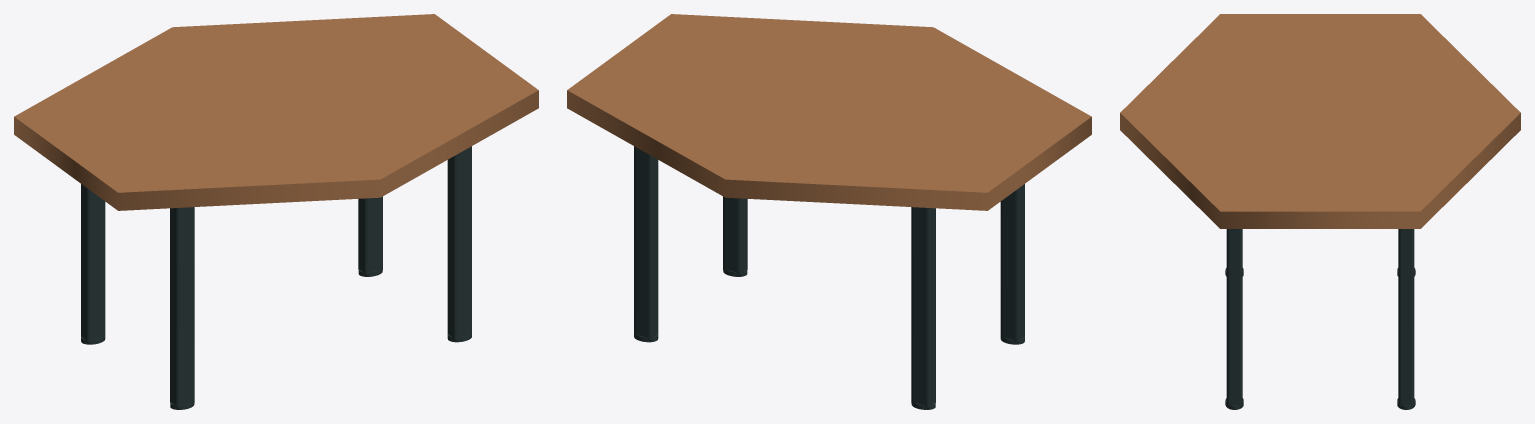
The model's file is wp-table-de-groupe-hexagonale.glb.
3 renders of one model, left to right at view 1: azimuth 30°, elevation 25°; view 2: azimuth 150°, elevation 25°; view 3: azimuth 270°, elevation 25°, orthographic. The views are drawn at different scales.
Visible parts, largest first — view 1: wp-table-de-groupe-hexagonale; view 2: wp-table-de-groupe-hexagonale; view 3: wp-table-de-groupe-hexagonale.
Boxes of the visible parts, <box> form: wp-table-de-groupe-hexagonale: <box>14,14,538,409</box>; wp-table-de-groupe-hexagonale: <box>567,14,1091,409</box>; wp-table-de-groupe-hexagonale: <box>1120,14,1520,409</box>.
Bounding box in the file's own units: 1.4 × 0.75 × 1.2.
